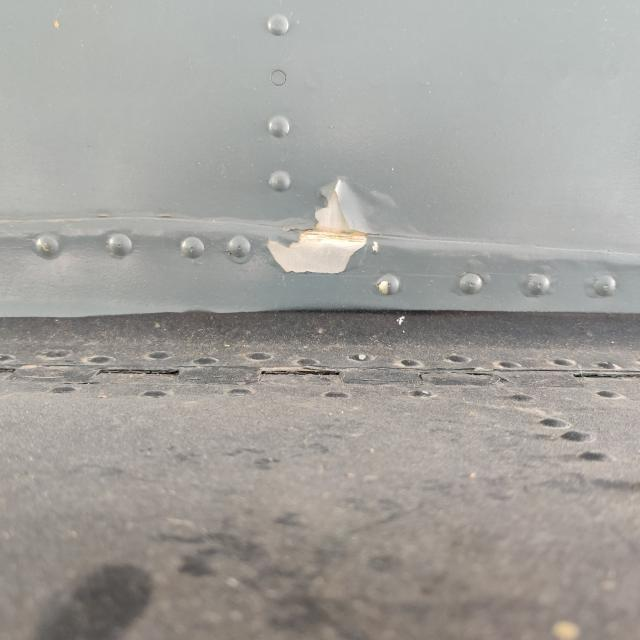paint-off: (252, 171, 401, 288)
